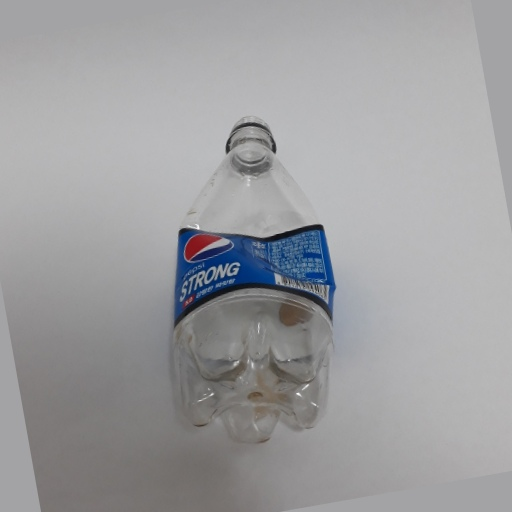Plastic_0: (168, 117, 339, 452)
